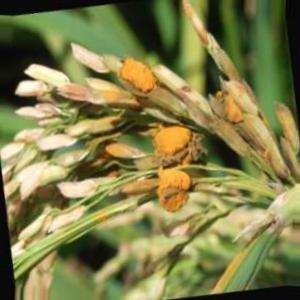Leaf_Scald: (155, 120, 199, 215), (110, 58, 165, 101), (221, 98, 246, 135), (101, 136, 133, 164)
